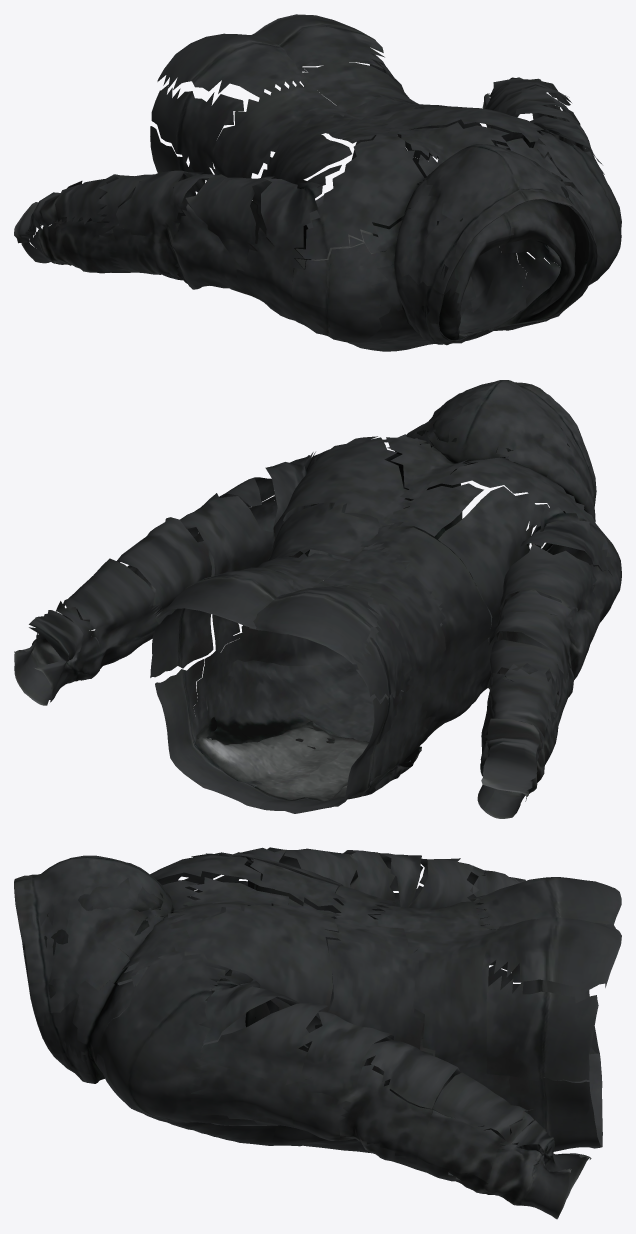
File: adult-base-01.glb
3 renders of one model, top to bottom at view 1: azimuth 30°, elevation 25°; view 2: azimuth 150°, elevation 25°; view 3: azimuth 270°, elevation 25°, orthographic. The views are drawn at different scales.
Visible parts, largest first — view 1: geometry_0; view 2: geometry_0; view 3: geometry_0.
Boxes of the visible parts, x1,y1,x2,y2 form: geometry_0: (14, 14, 621, 351); geometry_0: (14, 380, 621, 818); geometry_0: (14, 847, 621, 1219).
Bounding box in the file's own units: 0.00849 × 0.00412 × 0.00803.
Materials: 1 (1 with a texture image).
